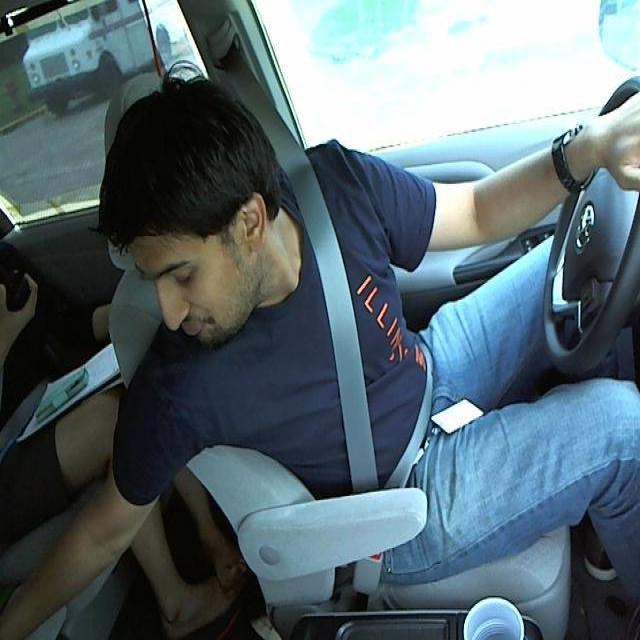seatbelt: (280, 203, 437, 469)
